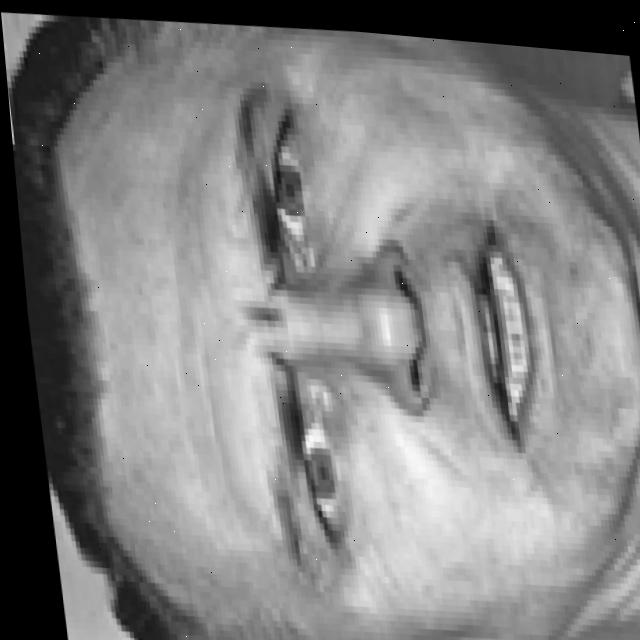angry: (209, 45, 627, 578)
